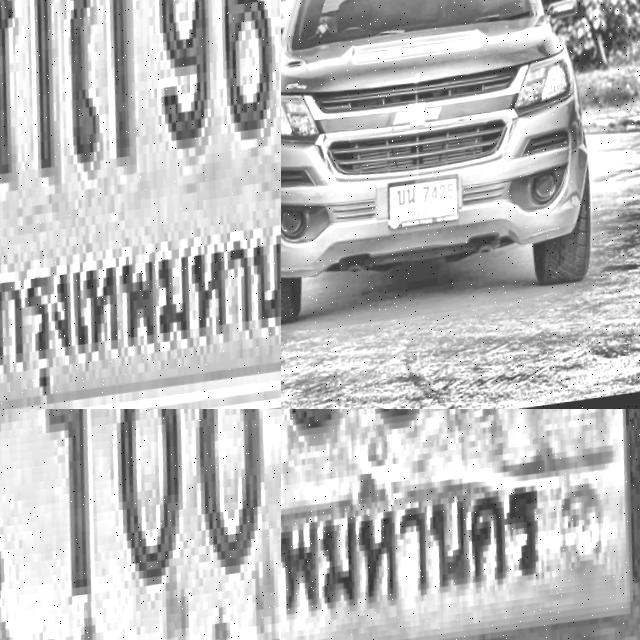license-plate: (0, 0, 281, 409), (281, 409, 640, 640), (0, 409, 281, 640), (388, 172, 471, 235)
